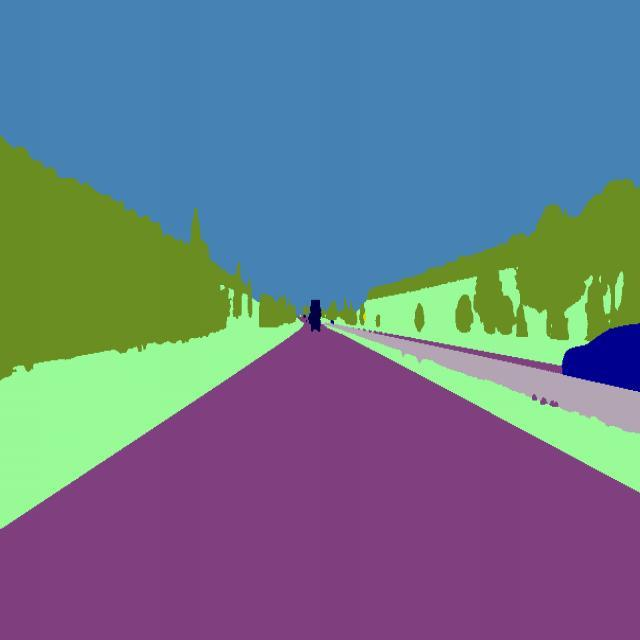safe: (559, 317, 640, 394), (304, 294, 326, 339)
